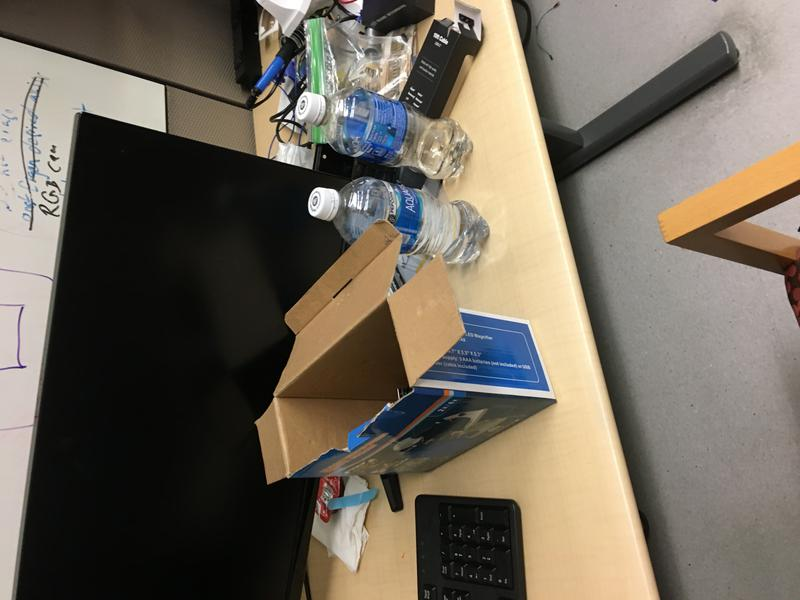bottle: (306, 175, 493, 269), (294, 87, 475, 182)
